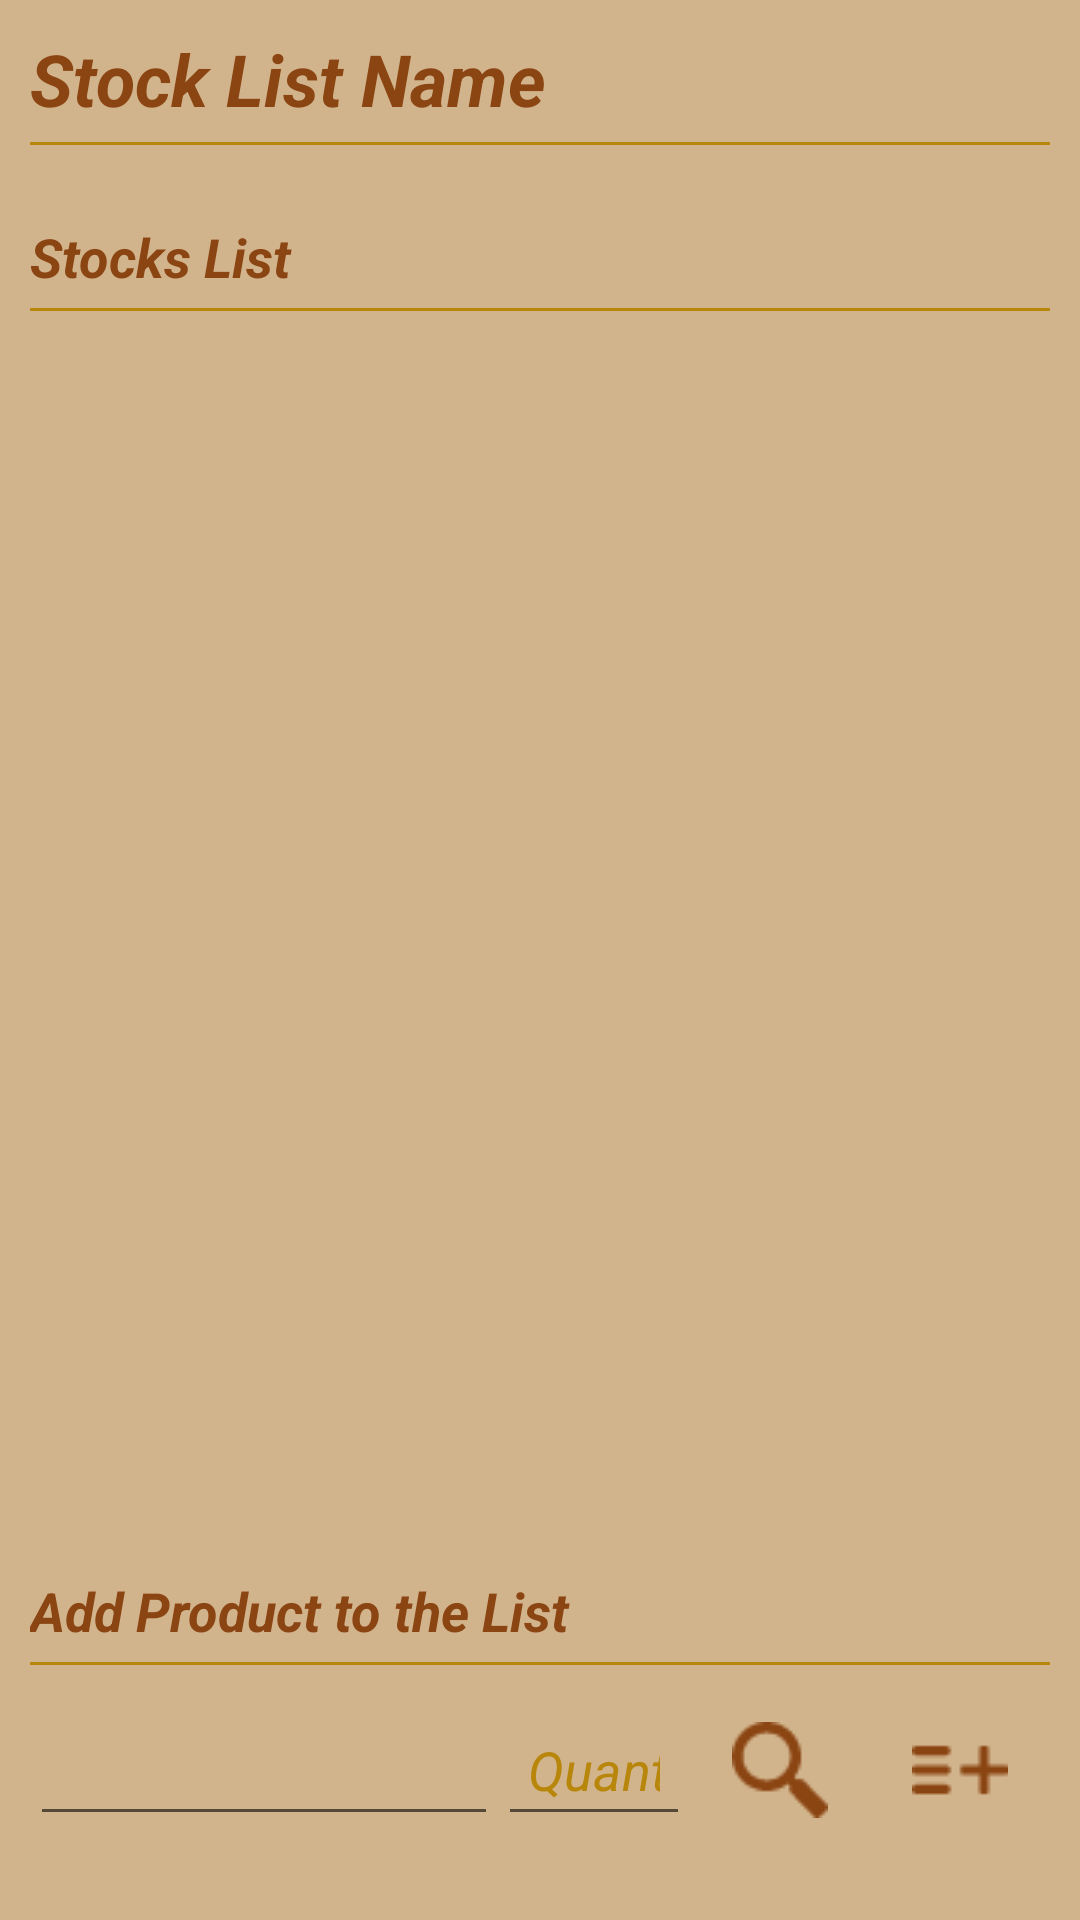

Icons on this 1080w x 1920h Android screen, each with the point to tap as (x=x, y=y):
searck: (x=780, y=1770)
